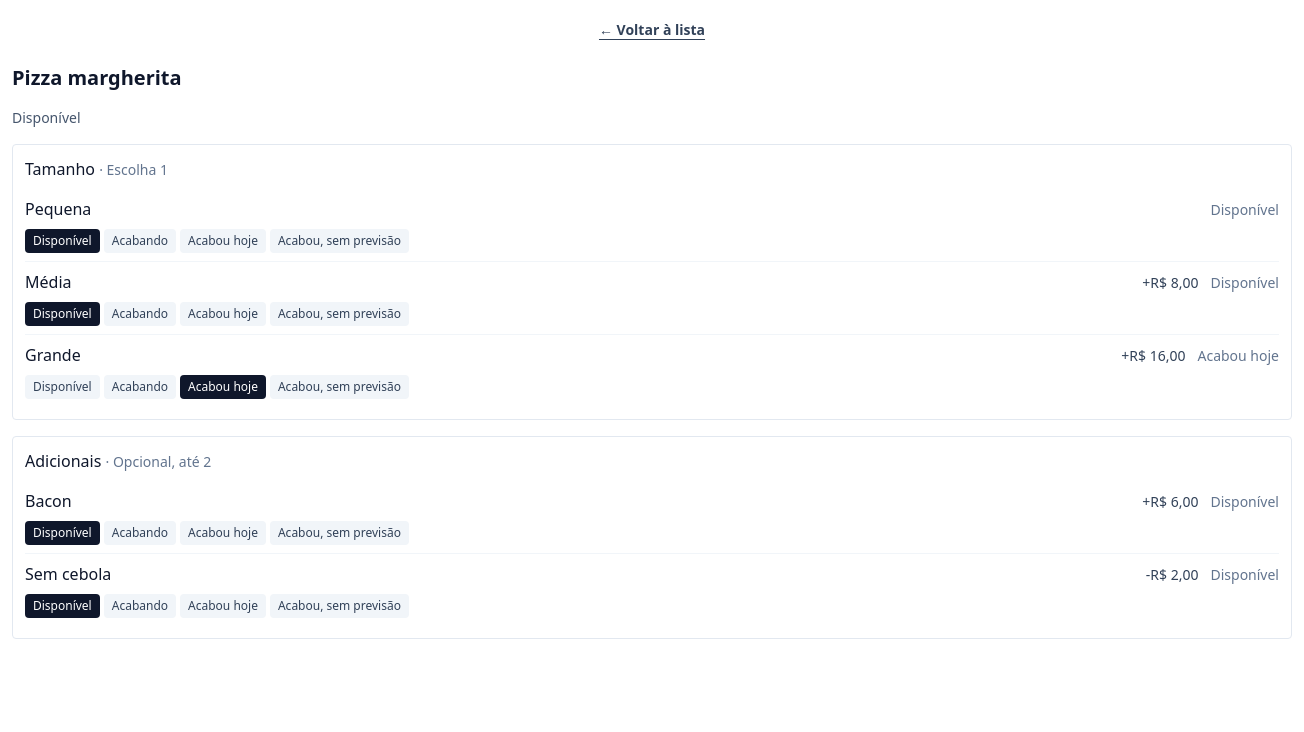
Test: ProdutoAberto › 6 · a recusa da marcação é a mesma Recusa da W-C › 500 mostra a mensagem fixa
Expected: the heading "Pizza margherita" is shown, [12, 64, 182, 92]
Click the button "Acabou hoje" below "Média". click: x=223, y=314
box: [180, 302, 266, 326]
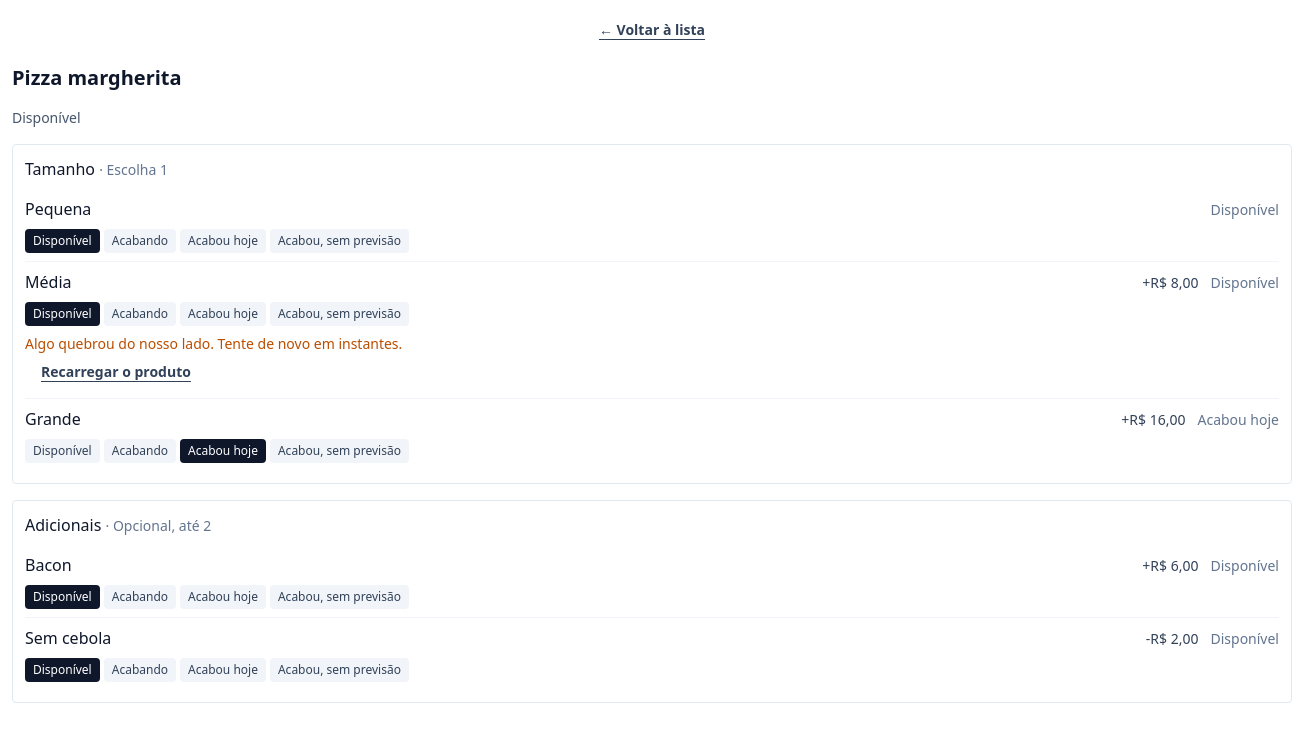
Now the message shows "Algo quebrou do nosso lado. Tente de novo em instantes.", box [25, 334, 402, 353]
